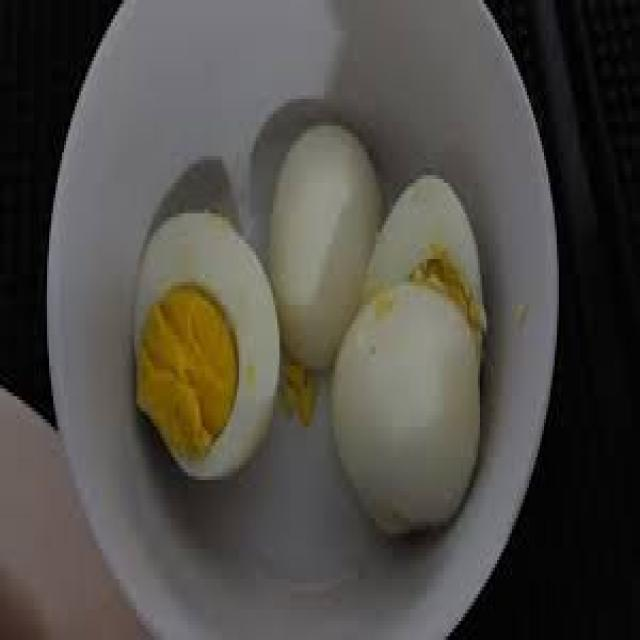telur rebus: (329, 175, 486, 541), (134, 213, 282, 480), (267, 122, 386, 385)
